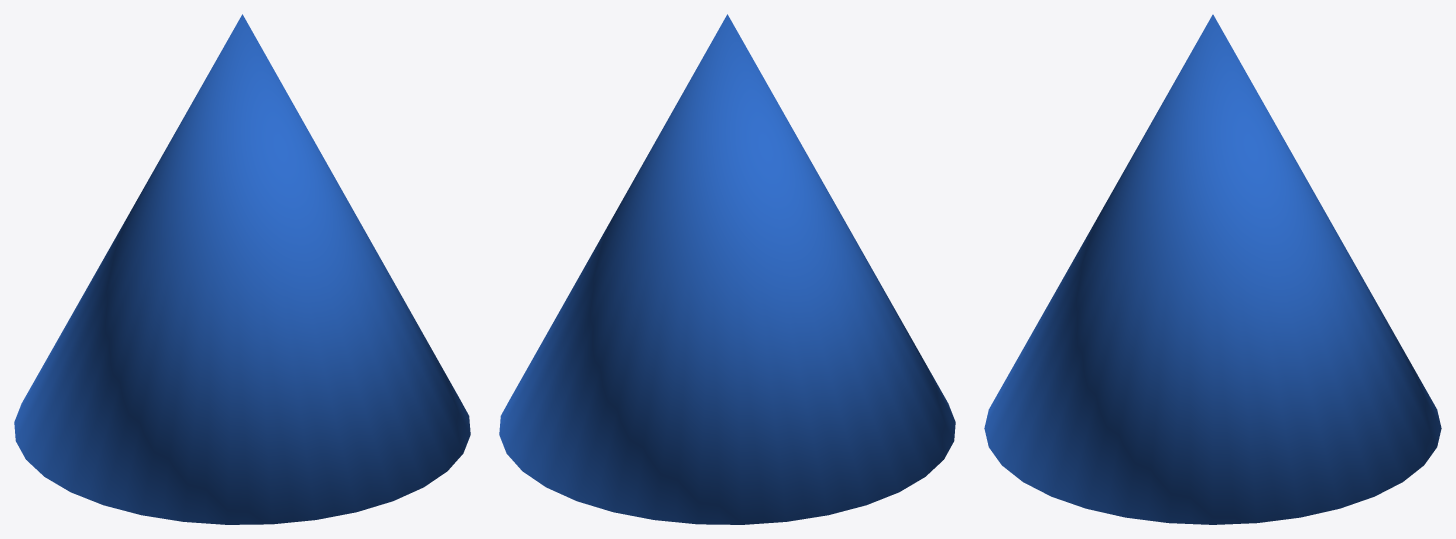
3 views of the same model, side by side, from view 1: azimuth 30°, elevation 25°; view 2: azimuth 150°, elevation 25°; view 3: azimuth 270°, elevation 25° (orthographic).
Visible parts, largest first — view 1: Cone; view 2: Cone; view 3: Cone.
Boxes of the visible parts, left/top/right/bottom form: Cone: left=14, top=14, right=470, bottom=524; Cone: left=499, top=14, right=955, bottom=524; Cone: left=984, top=14, right=1441, bottom=524.
Size of the model in its own units: 2 by 2 by 2.
